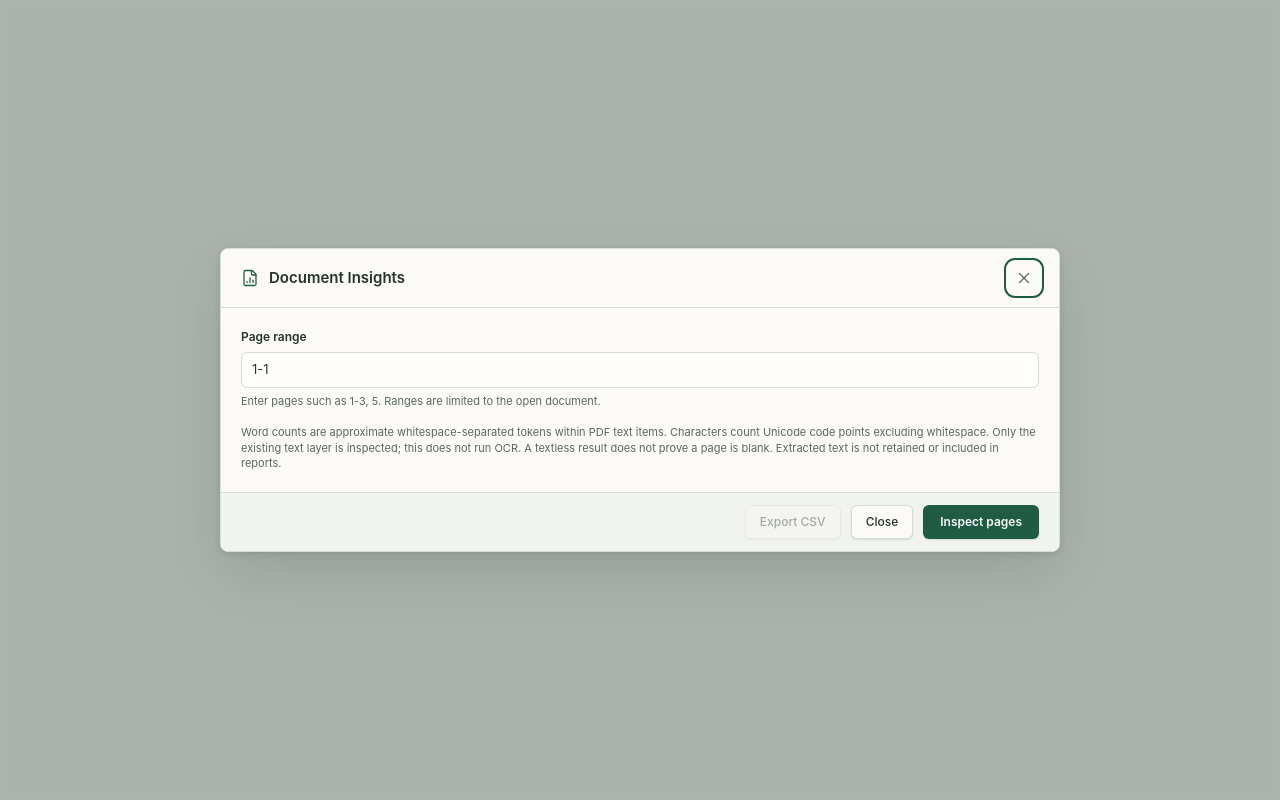
DocumentInsightsDialog › allows cancellation during reading without publishing the late result
Click the button "Inspect pages" at coordinates (981, 522), box [923,504,1039,538]
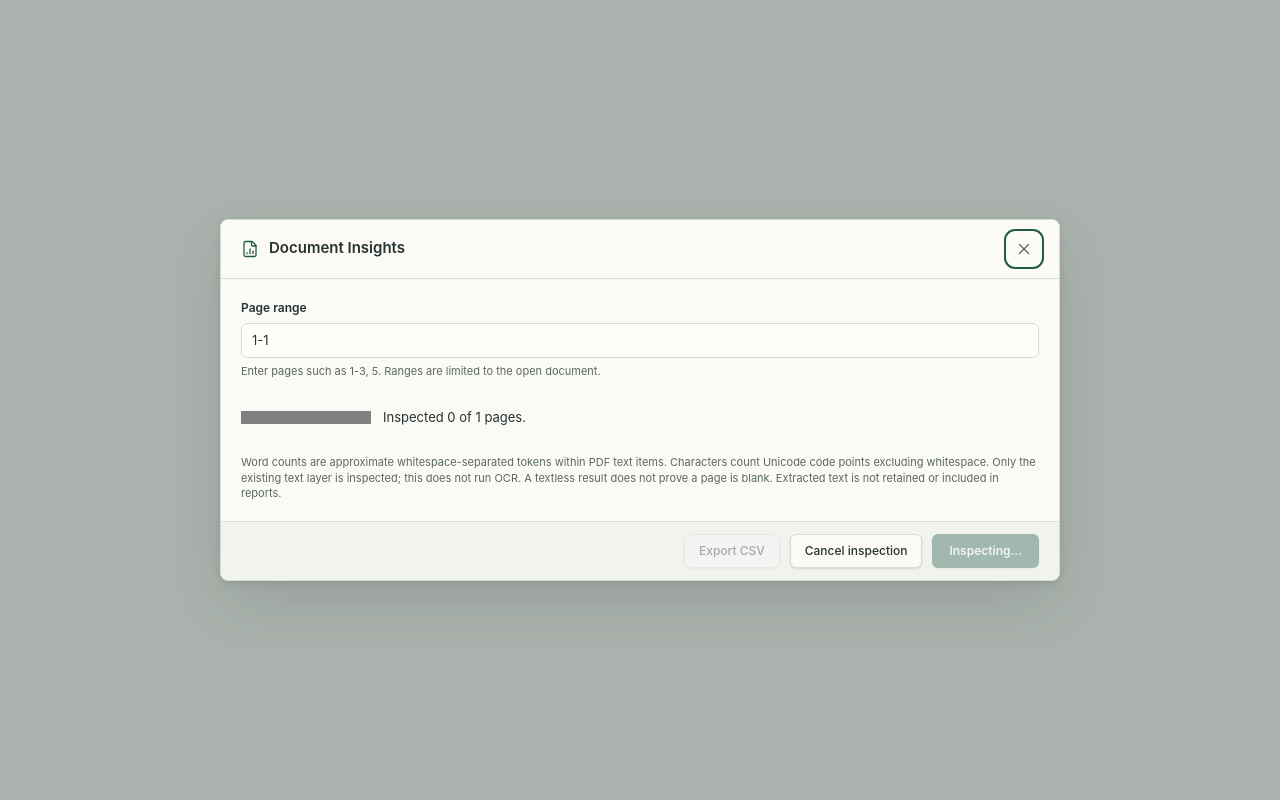
Check: the progress indicator is shown, box [241,411,371,424]
Click the button "Cancel inspection" at coordinates (856, 551), box [790,534,922,568]
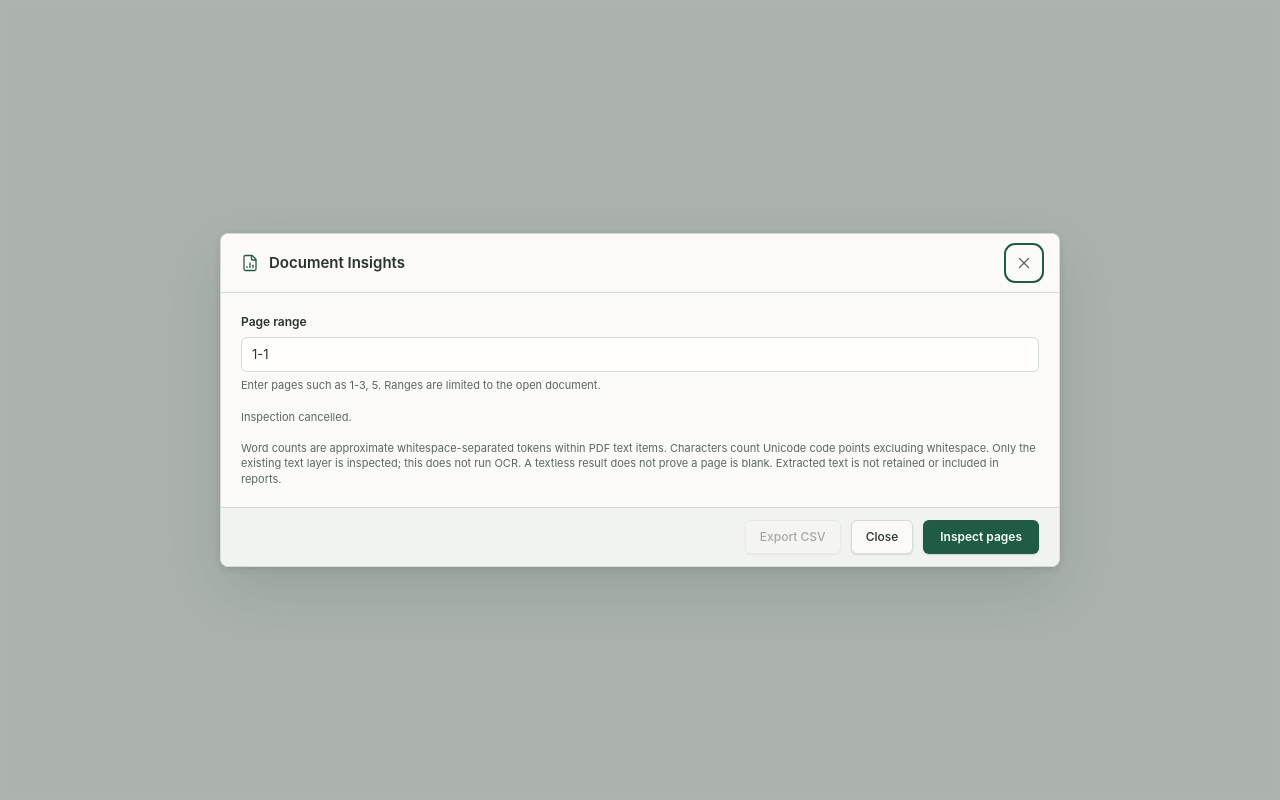
Check: the text "Inspection cancelled." is shown, box [241,410,352,424]
Check: the button "Inspect pages" is enabled, box [923,520,1039,554]
